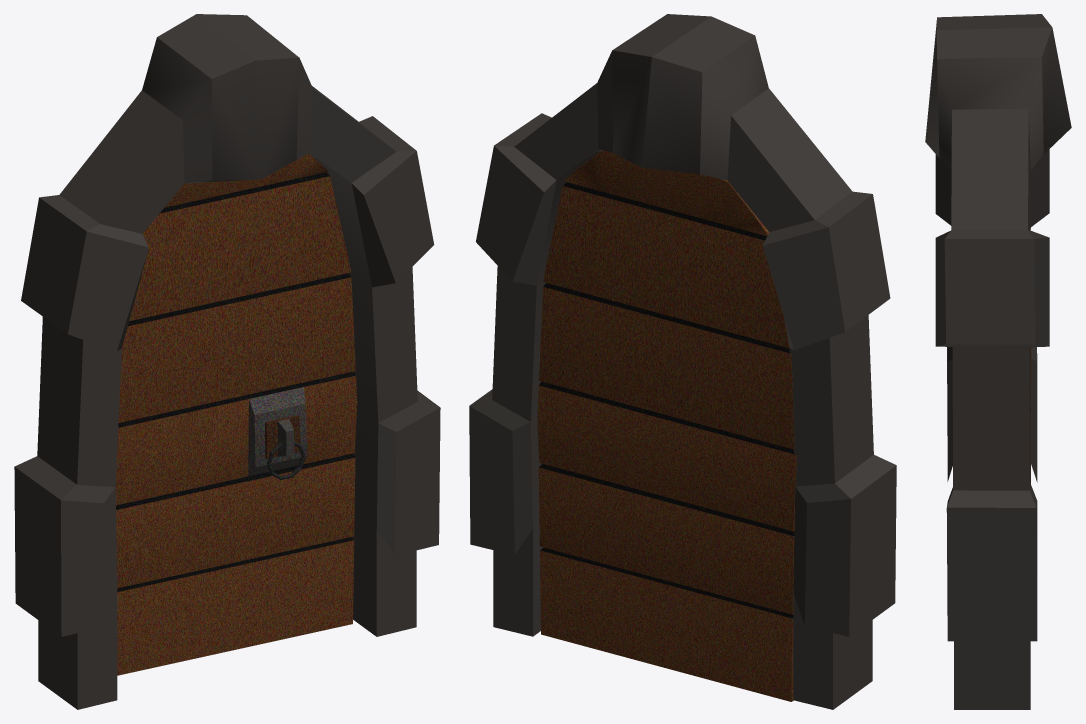
File: CastleDoorInside_Asset.fbx
3 renders of one model, left to right at view 1: azimuth 30°, elevation 25°; view 2: azimuth 150°, elevation 25°; view 3: azimuth 270°, elevation 25°, orthographic. The views are drawn at different scales.
Visible parts, largest first — view 1: CastleDoorInside_Side, CastleDoorInside; view 2: CastleDoorInside, CastleDoorInside_Side; view 3: CastleDoorInside_Side.
Part boxes in pixels (x1,y1,x2,y2): CastleDoorInside_Side: (14, 14, 440, 709); CastleDoorInside: (115, 153, 357, 675); CastleDoorInside: (537, 150, 796, 701); CastleDoorInside_Side: (469, 14, 896, 709); CastleDoorInside_Side: (925, 14, 1071, 709).
Size of the model in its own units: 2.86 by 4.44 by 0.9759.
